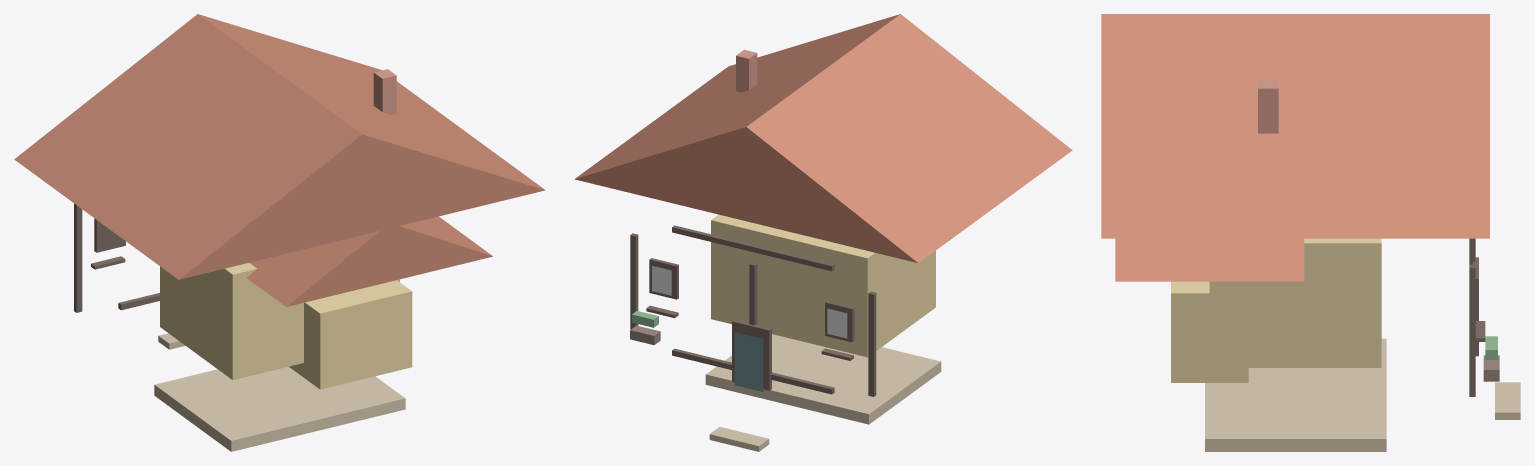
The model's file is ravnbro-house-ochre-01.glb.
The picture shows the model from 3 angles, left to right: view 1: azimuth 30°, elevation 25°; view 2: azimuth 150°, elevation 25°; view 3: azimuth 270°, elevation 25°; orthographic projection. The views are drawn at different scales.
Visible parts, largest first — view 1: roof, plinth, body, wing_roof, wing, chimney, up_-1.08, wf_-0.80; view 2: roof, body, plinth, door, beam_1.62, door_frame, beam_0.55, up_-1.08, step, chimney, up_1.08, wf_0.80 (+4 smaller); view 3: roof, body, plinth, wing_roof, wing, chimney, step, up_1.08.
Boxes of the visible parts, x1,y1,x2,y2 form: roof: (14, 14, 545, 279); plinth: (154, 366, 405, 451); body: (160, 263, 399, 379); wing_roof: (246, 216, 492, 306); wing: (289, 280, 412, 389); chimney: (373, 69, 396, 114); up_-1.08: (74, 203, 82, 312); wf_-0.80: (94, 218, 125, 252); roof: (574, 14, 1072, 263); body: (711, 214, 935, 357); plinth: (705, 334, 941, 424); door: (734, 332, 763, 391); beam_1.62: (672, 225, 834, 271); door_frame: (732, 319, 771, 390); beam_0.55: (672, 348, 834, 394); up_-1.08: (868, 291, 876, 396); step: (709, 427, 769, 451); chimney: (736, 49, 757, 92); up_1.08: (630, 233, 638, 329); wf_0.80: (649, 258, 678, 299); roof: (1101, 14, 1489, 238); body: (1209, 238, 1381, 367); plinth: (1205, 338, 1386, 451); wing_roof: (1115, 238, 1304, 281); wing: (1171, 281, 1248, 382); chimney: (1258, 80, 1278, 133); step: (1495, 382, 1520, 419); up_1.08: (1469, 264, 1475, 396).
Bounding box in the file's own units: 3.13 × 2.7 × 2.62.
